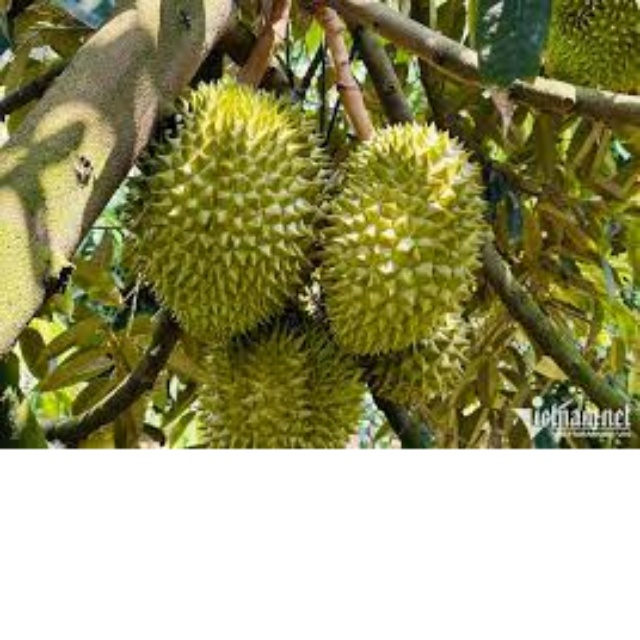sau_rieng: (135, 77, 327, 338), (317, 124, 492, 356), (199, 313, 356, 456)
